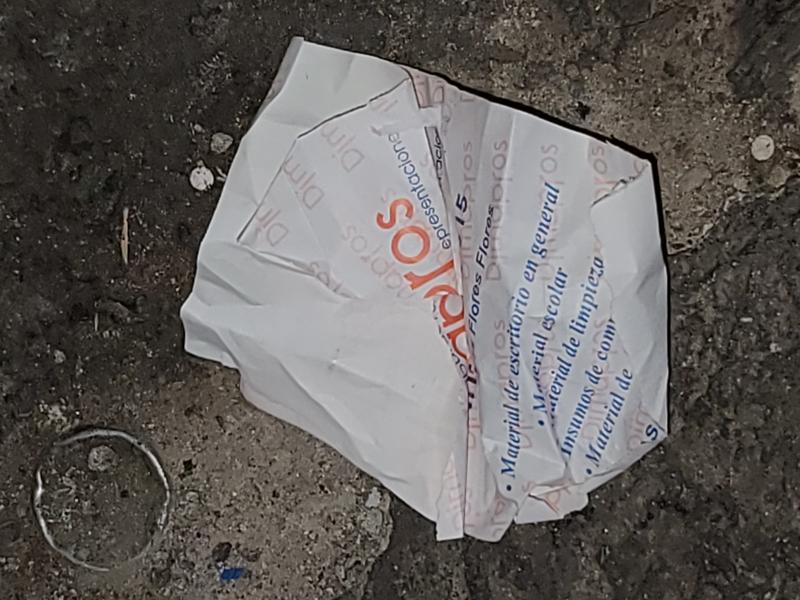papel: (179, 40, 670, 545)
